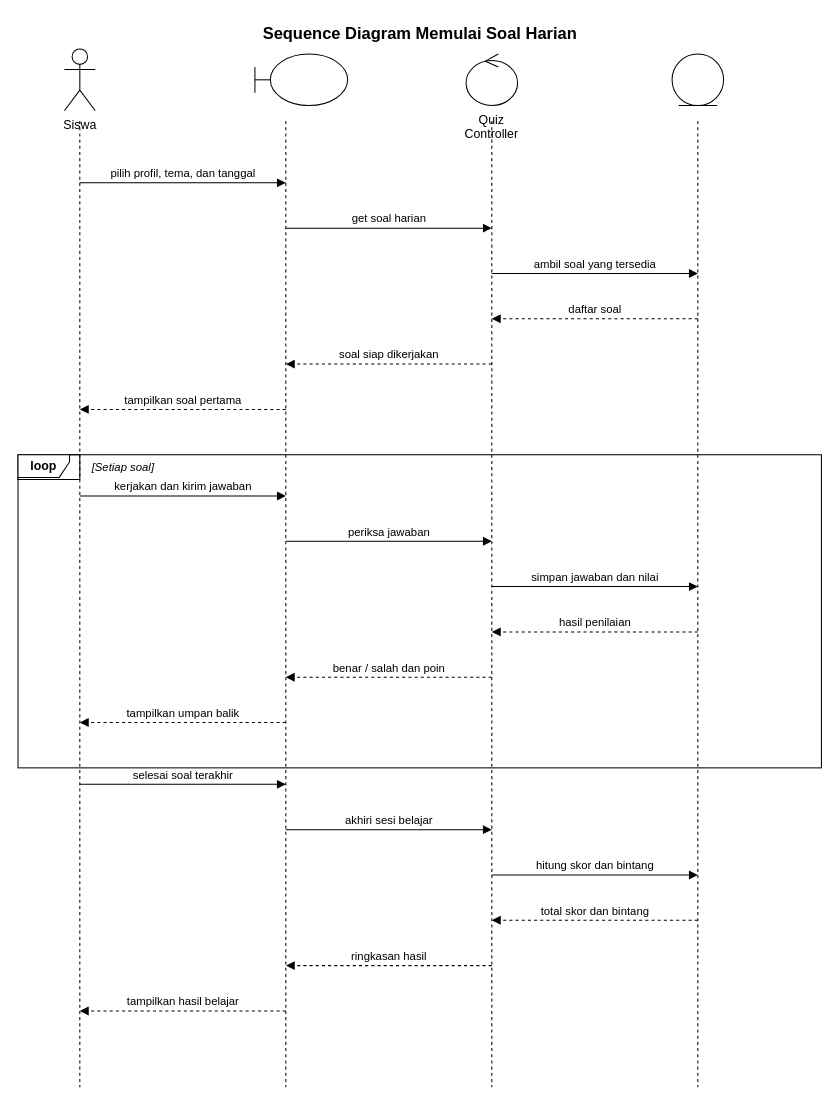
This 839x1106 diagram has some shape labels left out. The centre of each missing label's shape, as x and y in pixels:
Belajar View: the point at 301,79
Student Answer: the point at 697,79
